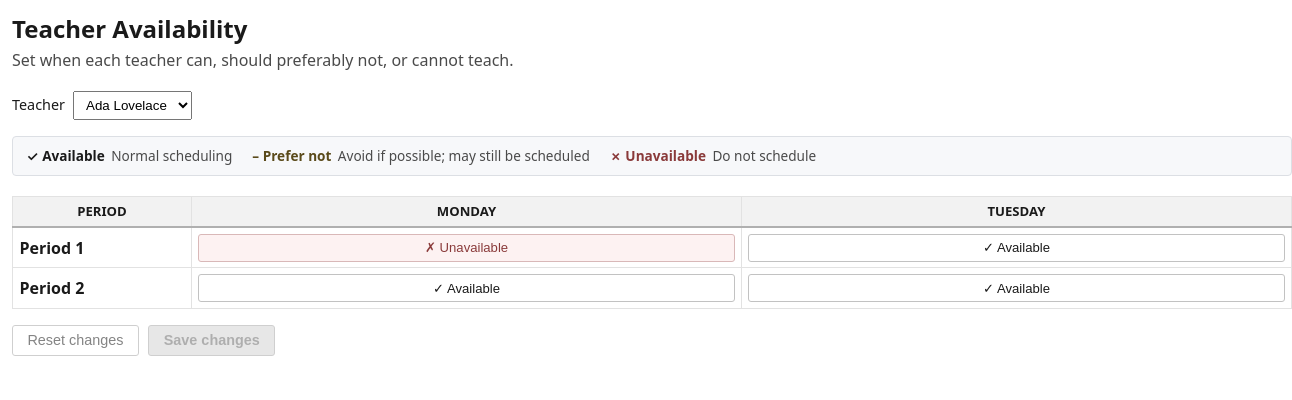
Test: TeacherAvailabilityPage › shows the dirty hint and disables the Teacher selector while dirty
This screenshot has width=1292, height=400.
Expected: the text "Save or reset changes before switching teachers." is not shown
Expected: the dropdown labelled "Teacher" is enabled, [73,91,192,120]
Click the button with aria-label "Monday, Period 2.". click: (466,288)
box: [198,274,735,302]
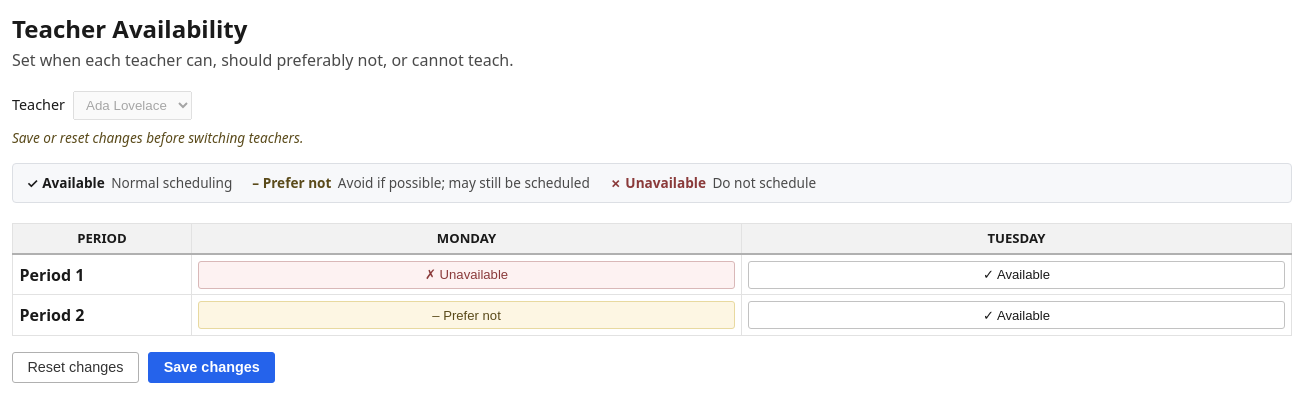
Expected: the text "Save or reset changes before switching teachers." is shown, [12,128,303,147]
Expected: the dropdown labelled "Teacher" is disabled, [73,91,192,120]
